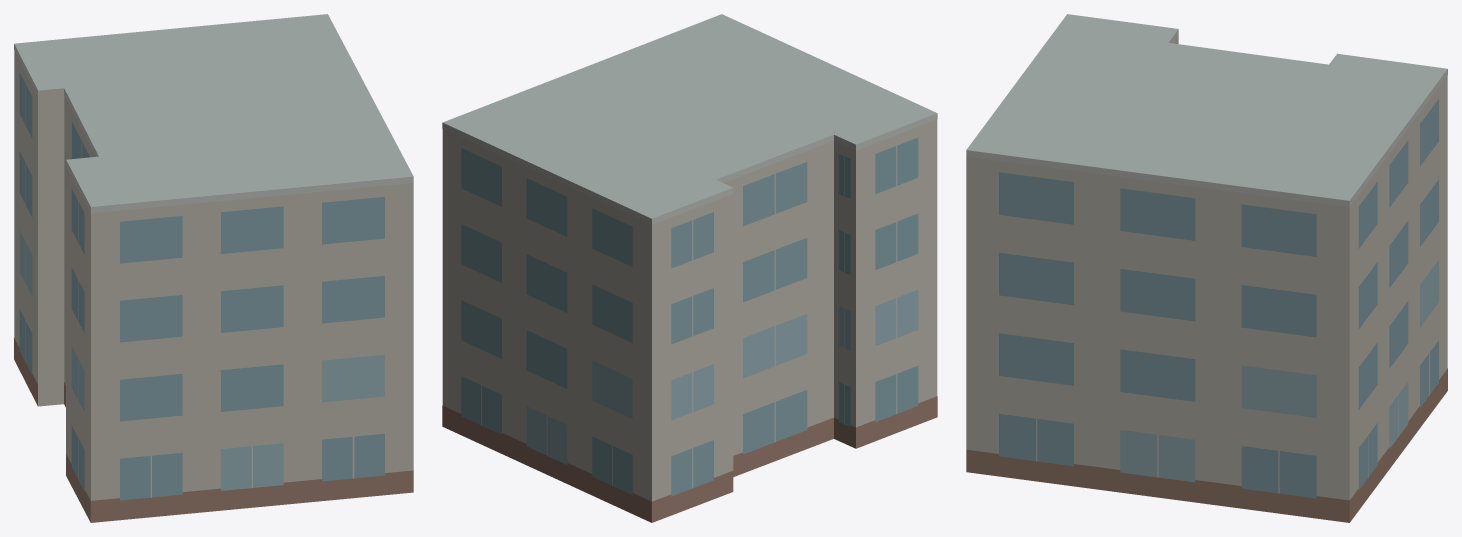
Rendered from survey-upis-32982963.glb.
3 views of the same model, side by side, from view 1: azimuth 30°, elevation 25°; view 2: azimuth 150°, elevation 25°; view 3: azimuth 270°, elevation 25° (orthographic). The views are drawn at different scales.
Parts seen in each view (by area): view 1: survey-upis-32982963.tmp; view 2: survey-upis-32982963.tmp; view 3: survey-upis-32982963.tmp.
Boxes of the visible parts, x1,y1,x2,y2 form: survey-upis-32982963.tmp: (14,14,413,522); survey-upis-32982963.tmp: (442,14,937,522); survey-upis-32982963.tmp: (966,14,1447,522).
Bounding box in the file's own units: 15.19 × 12.2 × 16.54.
